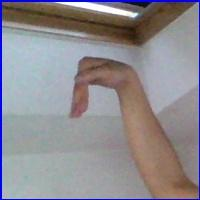del: (68, 51, 140, 124)
